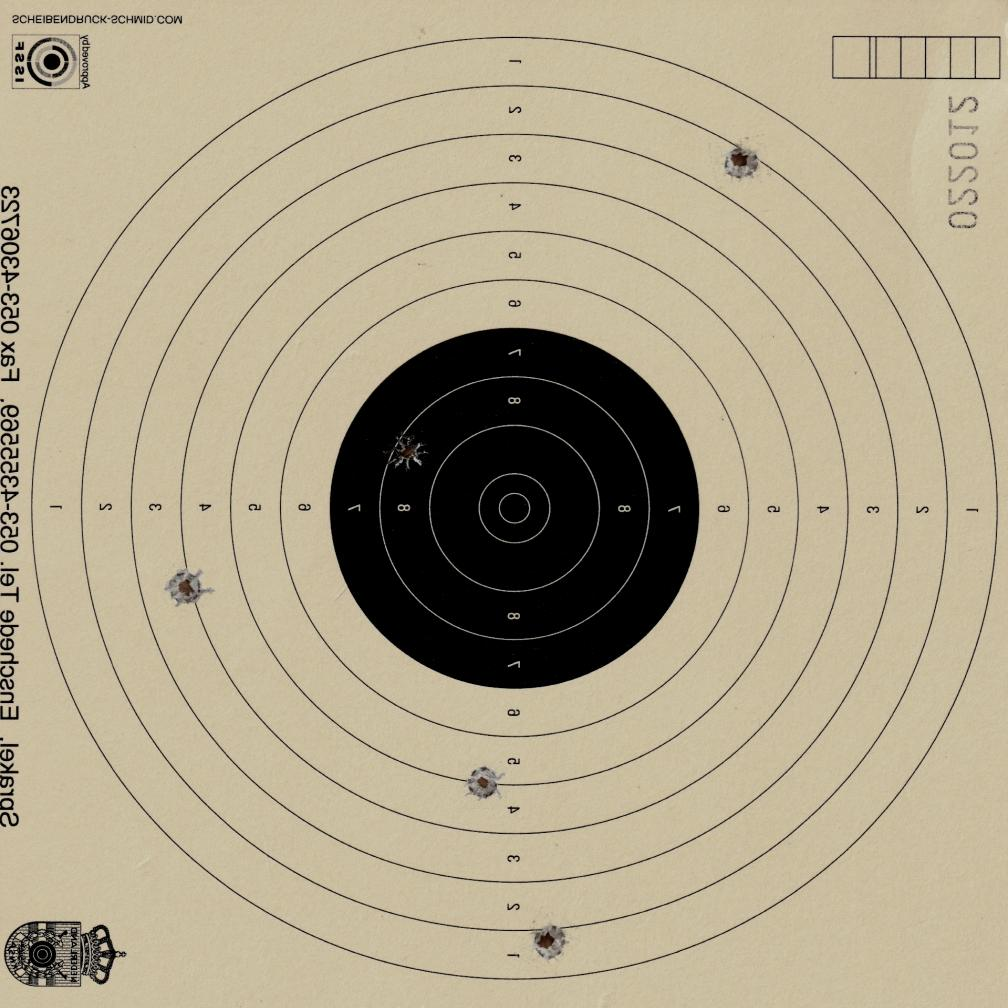2: (723, 142, 762, 182), (529, 926, 570, 959)
4: (162, 566, 214, 608)
5: (461, 764, 504, 801)
8: (384, 433, 426, 471)
Target: (23, 31, 1001, 983)
black_contour: (328, 327, 699, 690)
